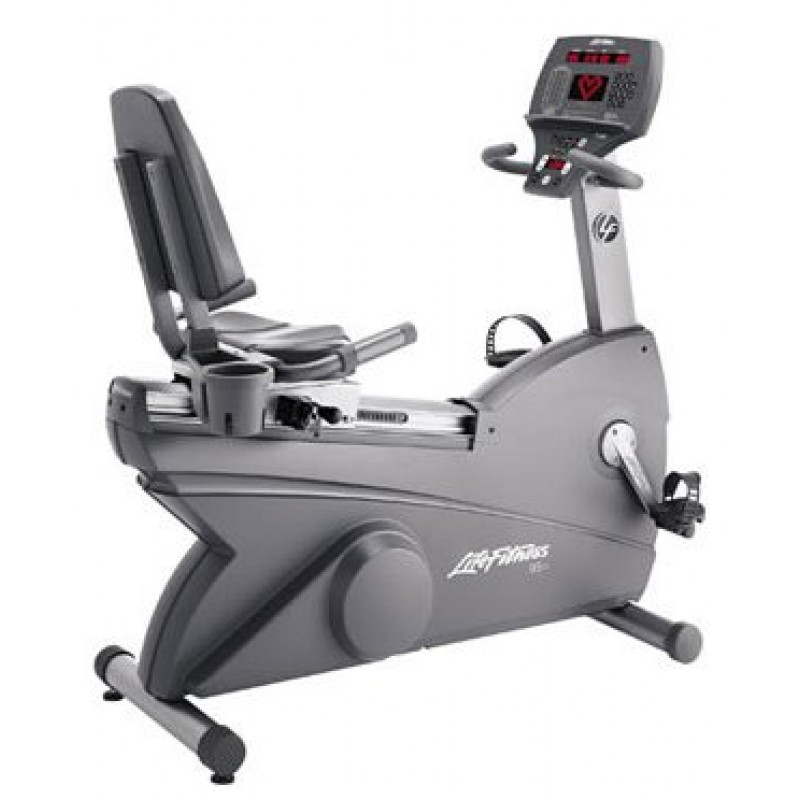gym_bike: (52, 37, 710, 784)
